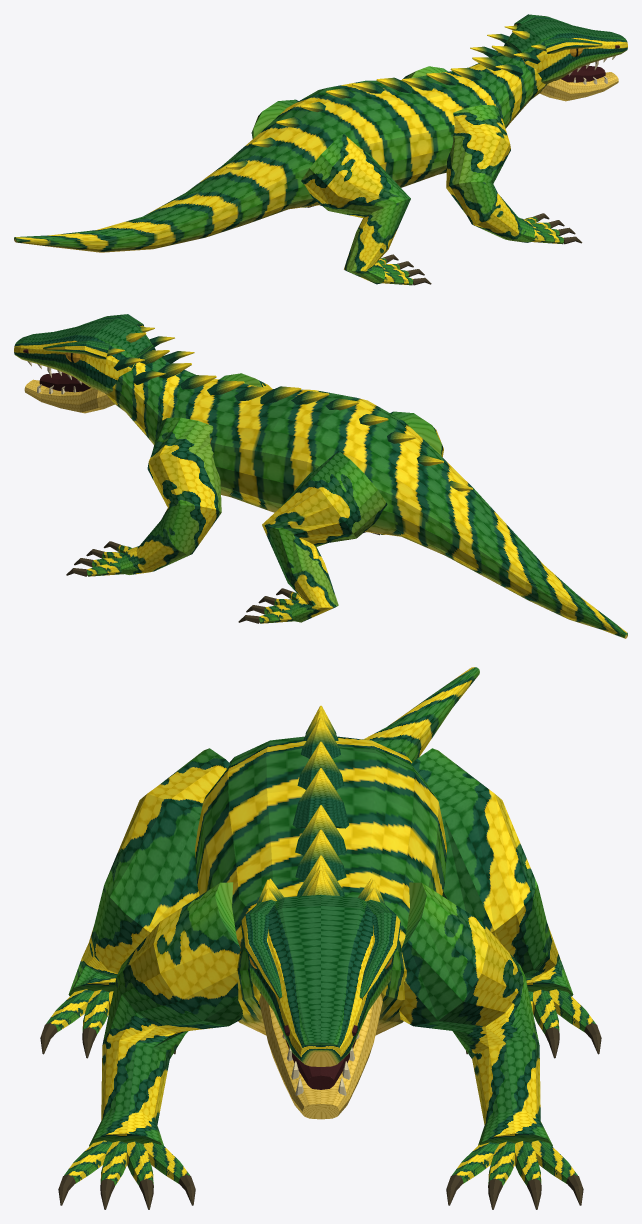
Rendered from lagarto-papagaio-v02.glb.
3 renders of one model, top to bottom at view 1: azimuth 30°, elevation 25°; view 2: azimuth 150°, elevation 25°; view 3: azimuth 270°, elevation 25°, orthographic. The views are drawn at different scales.
Parts seen in each view (by area): view 1: LagartoPapagaio_v02; view 2: LagartoPapagaio_v02; view 3: LagartoPapagaio_v02.
Boxes of the visible parts, x1,y1,x2,y2 form: LagartoPapagaio_v02: (14, 14, 627, 285); LagartoPapagaio_v02: (14, 314, 627, 638); LagartoPapagaio_v02: (40, 667, 601, 1209).
Size of the model in its own units: 5.83 by 1.63 by 2.49.
1 material, 1 textured.
